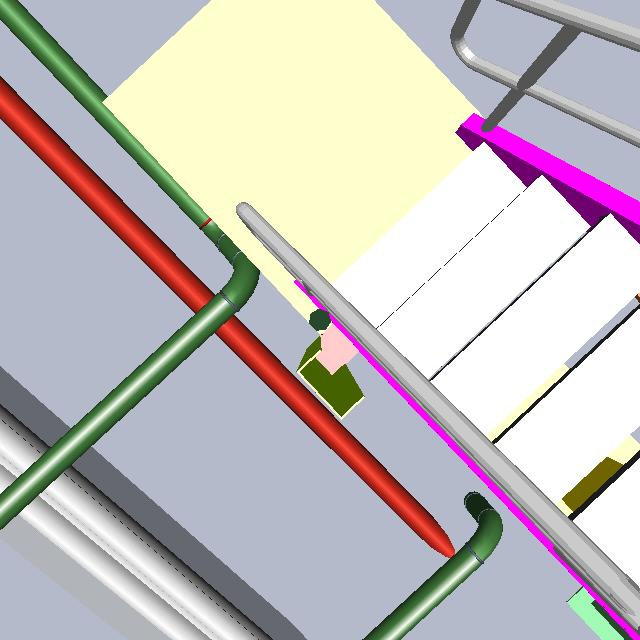Poste: (306, 306, 335, 339)
Soporte: (293, 312, 374, 425)
